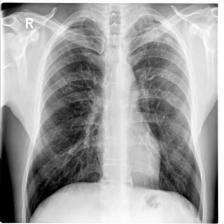tuberculosis: (18, 12, 207, 224)
